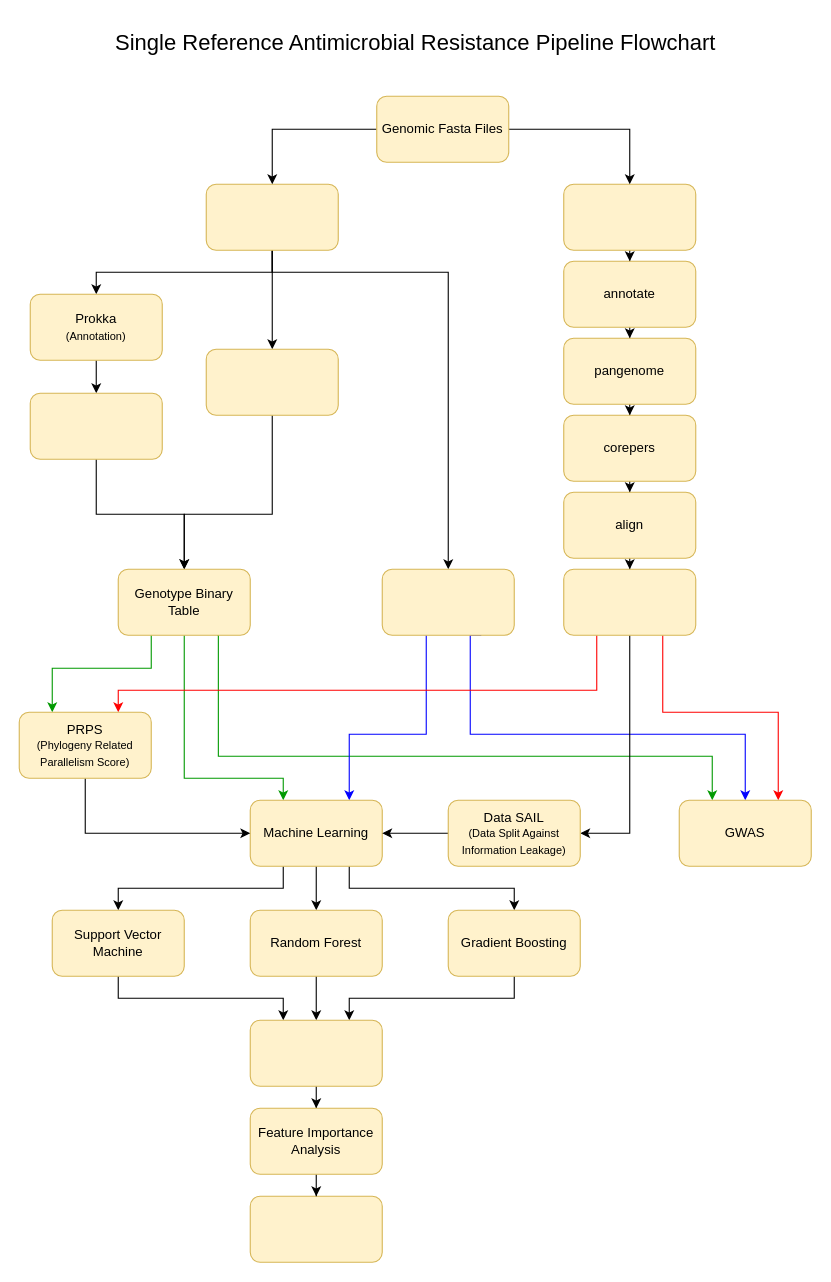
Image size: 831x1282. Some labels were removed from this diagram. The shapes that lost their labels are listed below. From the top down, each one's centre as x and y in pixels, then its label:
At point (271, 216): "Create Binary Tables".
At point (629, 216): "Panacota Pipeline".
At point (271, 381): "Snippy (Variant Calling)".
At point (95, 425): "Panaroo (Gene Presence Absence)".
At point (447, 601): "Phenotype Binary Table".
At point (629, 601): "tree".
At point (315, 1052): "Parameter optimization with AutoSklearn".
At point (315, 1228): "Results".
